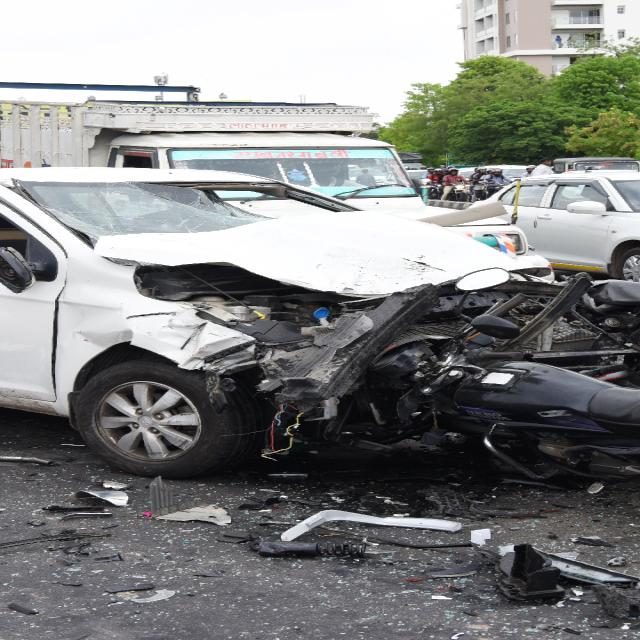accident: (0, 169, 564, 478), (369, 315, 640, 479)
